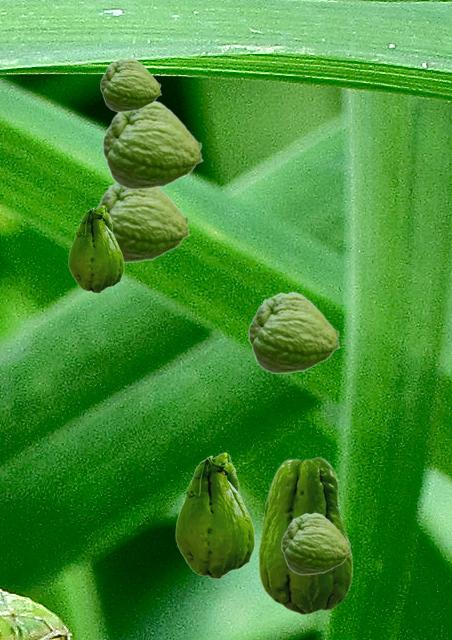sayote: (258, 456, 352, 614), (175, 452, 254, 578), (102, 100, 203, 189), (248, 291, 340, 373), (96, 183, 190, 262), (68, 205, 123, 292), (281, 512, 351, 574), (100, 57, 161, 111)
